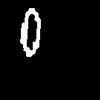chain: (20, 8, 40, 56)
